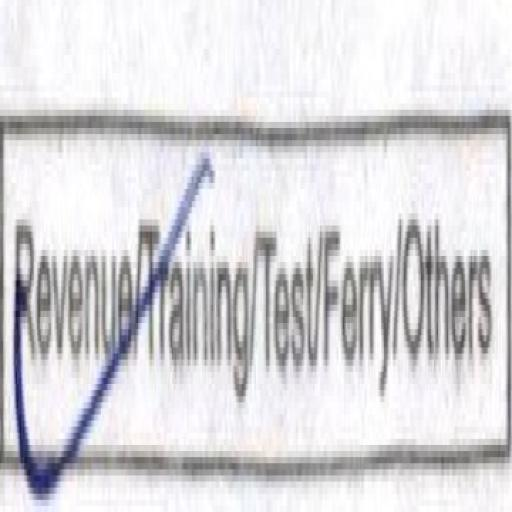check: (0, 9, 139, 512)
